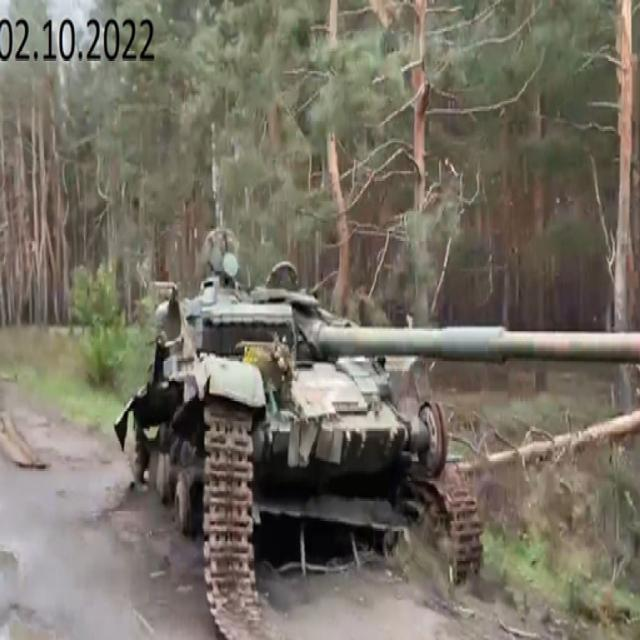TANK: (116, 235, 634, 578)
